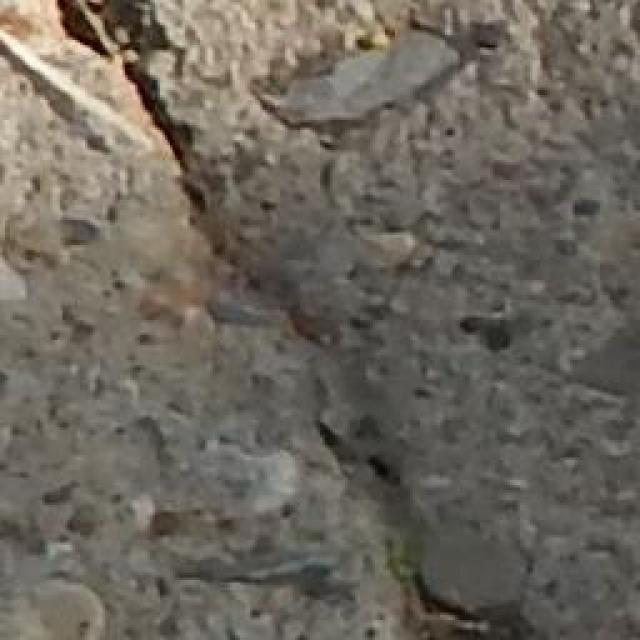concrete-crack: (291, 401, 557, 640), (54, 0, 215, 245)
